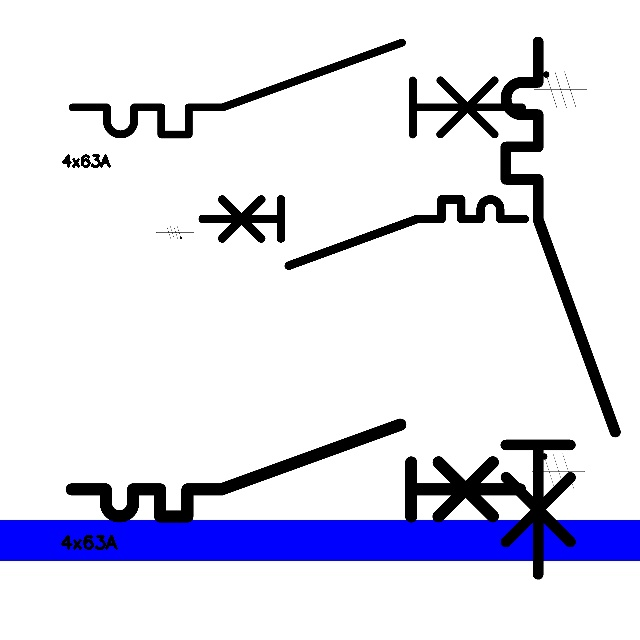interruptor_termomagnetico: (492, 28, 629, 588), (61, 31, 533, 146), (60, 413, 531, 528), (194, 191, 533, 274)
